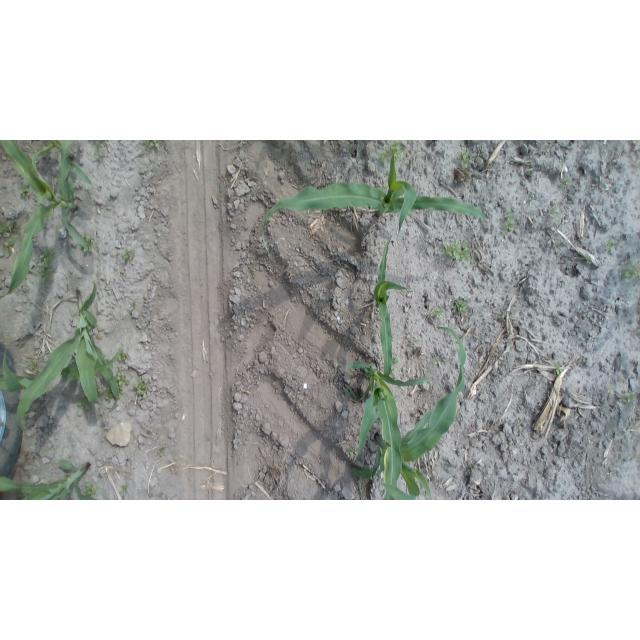Maize: (261, 152, 490, 262), (350, 328, 467, 501), (0, 284, 126, 436), (0, 140, 92, 296), (344, 354, 408, 498), (369, 234, 403, 381), (1, 456, 98, 500), (32, 140, 92, 201)
Weeds: (439, 239, 476, 265), (379, 140, 405, 165), (39, 249, 57, 284), (0, 218, 20, 249), (618, 259, 640, 281), (133, 378, 154, 398), (502, 210, 518, 235), (75, 391, 93, 412), (115, 370, 132, 392), (456, 148, 475, 167), (89, 141, 108, 160), (122, 247, 139, 263), (452, 298, 468, 314), (84, 483, 101, 498), (428, 307, 444, 322), (602, 239, 618, 254), (106, 385, 119, 403), (84, 234, 98, 250), (26, 359, 42, 373), (621, 391, 636, 404), (145, 141, 162, 152), (20, 185, 33, 199), (118, 350, 131, 364), (249, 266, 260, 282), (563, 176, 577, 188), (129, 300, 140, 314), (94, 381, 102, 398), (547, 206, 558, 218), (156, 446, 167, 458), (347, 446, 358, 458), (119, 484, 129, 497), (391, 356, 399, 371), (430, 354, 438, 366), (584, 256, 595, 264), (555, 367, 564, 376), (607, 386, 616, 395)
